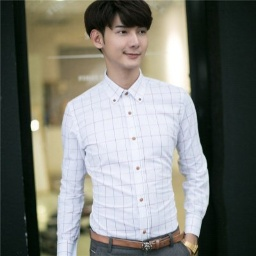face: (82, 1, 155, 73)
